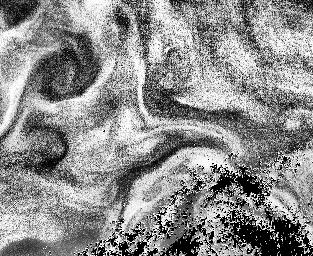AE: (16, 37, 104, 110)
